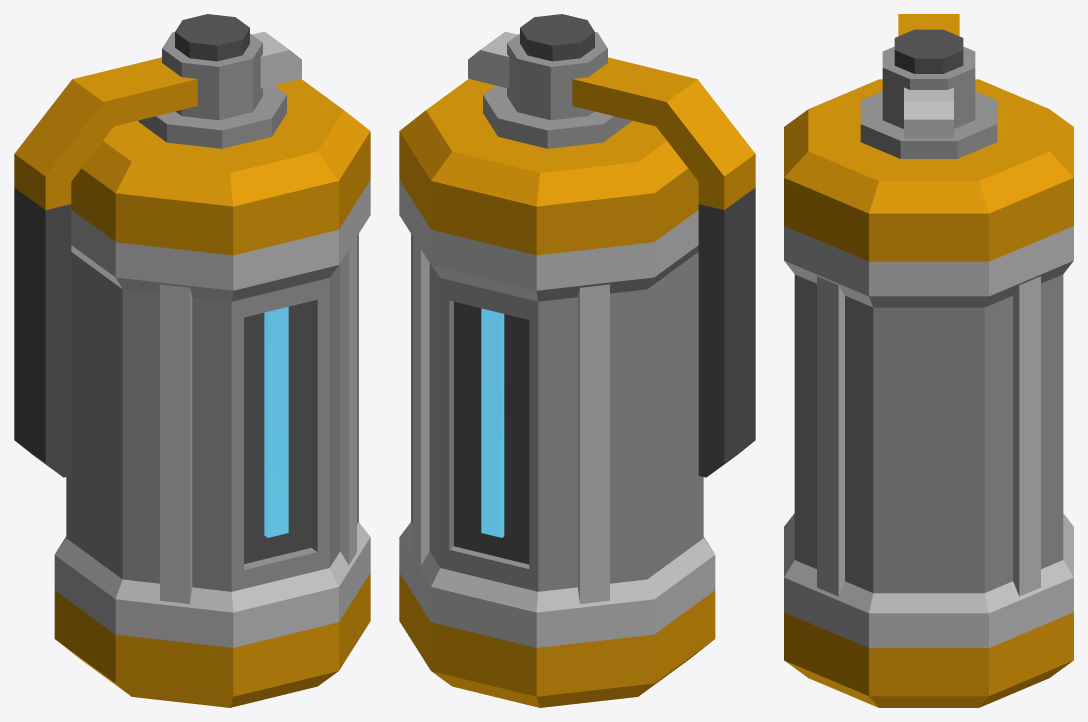
File: SM_Grenade01.fbx
3 renders of one model, left to right at view 1: azimuth 30°, elevation 25°; view 2: azimuth 150°, elevation 25°; view 3: azimuth 270°, elevation 25°, orthographic.
Parts seen in each view (by area): view 1: SM_Grenade01; view 2: SM_Grenade01; view 3: SM_Grenade01.
Boxes of the visible parts, bbox=[...] form: SM_Grenade01: bbox=[14, 14, 370, 707]; SM_Grenade01: bbox=[399, 14, 755, 707]; SM_Grenade01: bbox=[784, 14, 1073, 707].
Bounding box in the file's own units: 6.24 × 11.98 × 5.14.
